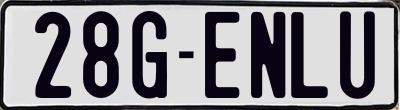2: (34, 10, 76, 97)
8: (80, 11, 120, 103)
E: (202, 9, 237, 99)
G: (129, 8, 169, 99)
L: (288, 10, 326, 101)
N: (248, 9, 284, 99)
U: (340, 10, 375, 104)
